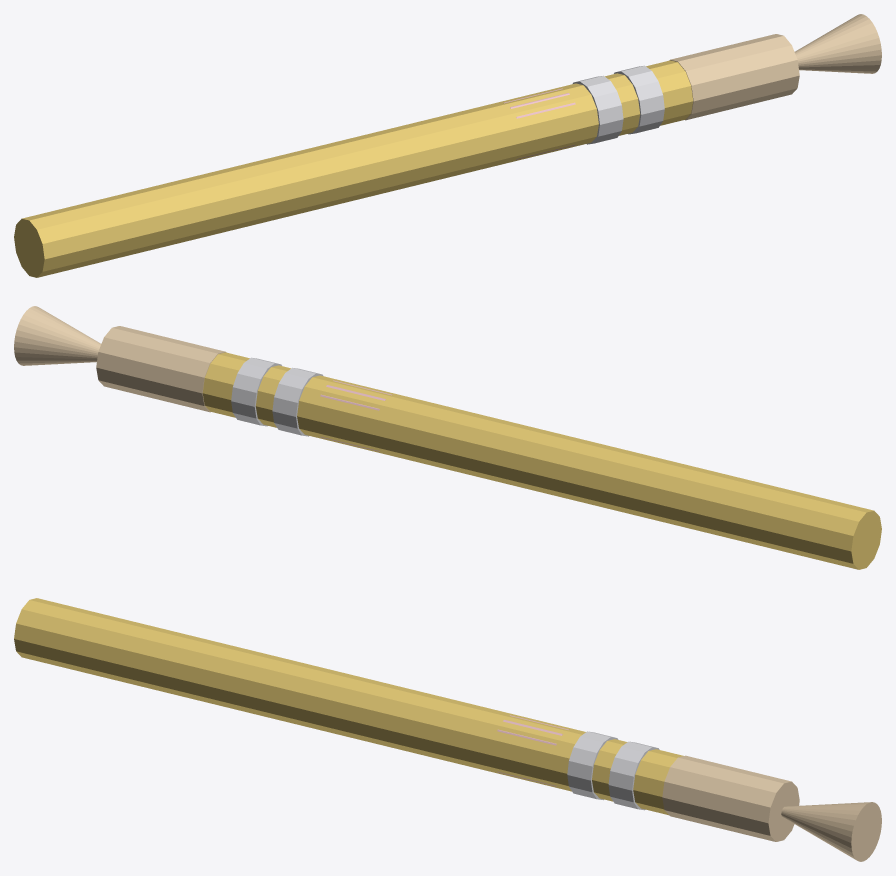
Rendered from item_57_pencil.glb.
3 renders of one model, top to bottom at view 1: azimuth 30°, elevation 25°; view 2: azimuth 150°, elevation 25°; view 3: azimuth 330°, elevation 25°, orthographic.
Visible parts, largest first — view 1: I57_Body, I57_Wood, I57_Tip, I57_Band0, I57_Band1; view 2: I57_Body, I57_Wood, I57_Tip, I57_Band0, I57_Band1; view 3: I57_Body, I57_Wood, I57_Tip, I57_Band0, I57_Band1.
Part boxes in pixels (x1,y1,x2,y2): I57_Body: [14, 60, 693, 277]; I57_Wood: [669, 34, 799, 120]; I57_Tip: [794, 14, 881, 73]; I57_Band0: [614, 65, 664, 134]; I57_Band1: [572, 75, 623, 144]; I57_Body: [202, 352, 881, 569]; I57_Wood: [96, 326, 226, 412]; I57_Tip: [14, 306, 101, 365]; I57_Band0: [231, 357, 281, 426]; I57_Band1: [272, 367, 323, 436]; I57_Body: [14, 598, 683, 815]; I57_Wood: [662, 755, 799, 841]; I57_Tip: [781, 802, 881, 861]; I57_Band0: [608, 741, 659, 810]; I57_Band1: [567, 731, 618, 800].
Size of the model in its own units: 0.142 by 0.00936 by 0.0096.
